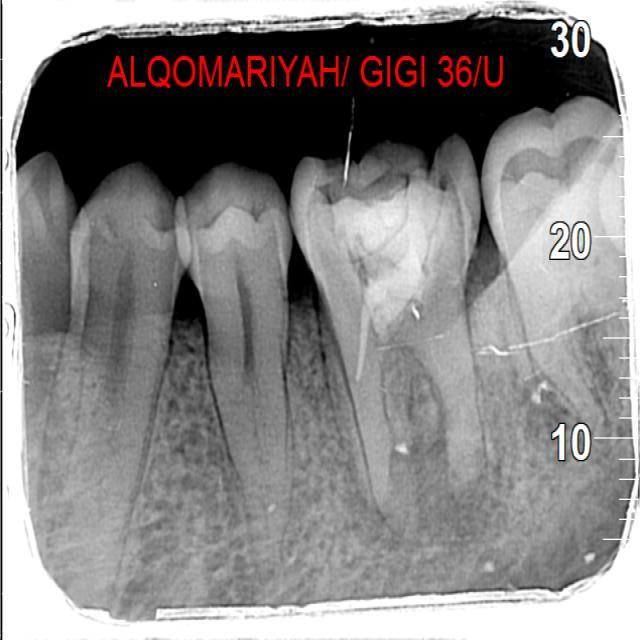individual-tooth-8tto: (291, 137, 493, 509), (175, 164, 298, 530)
